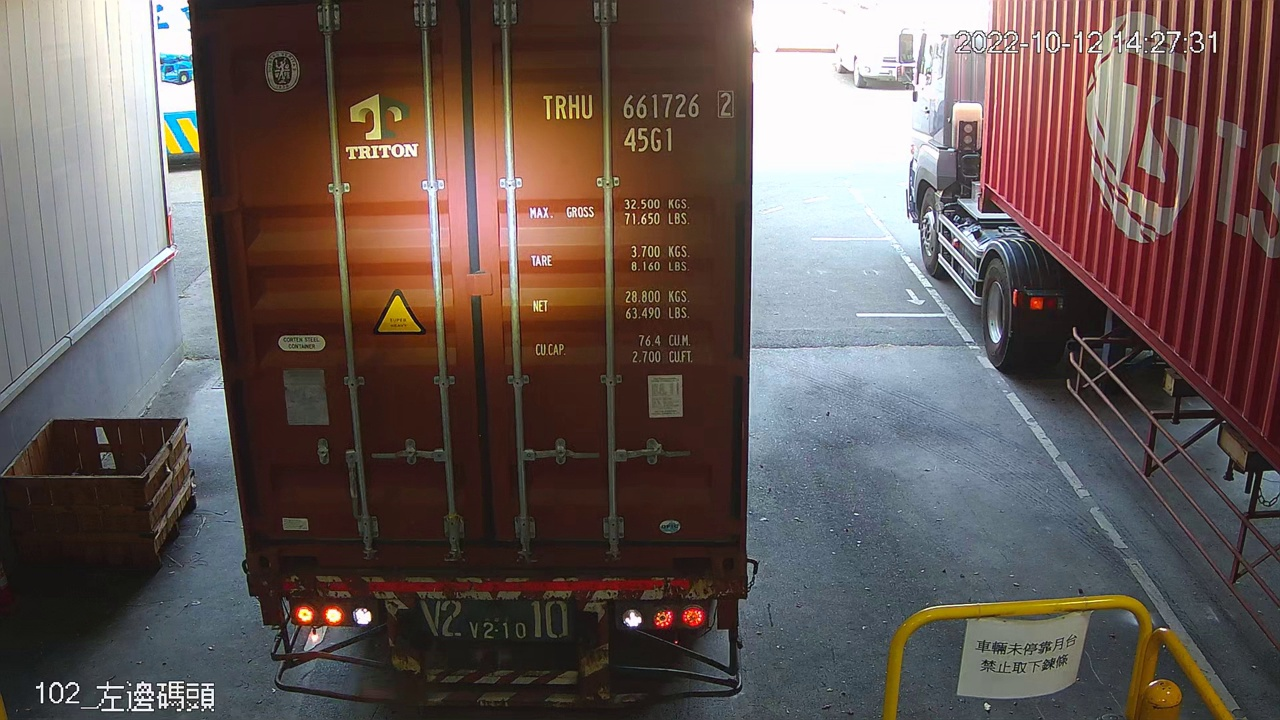container: (533, 83, 743, 160)
